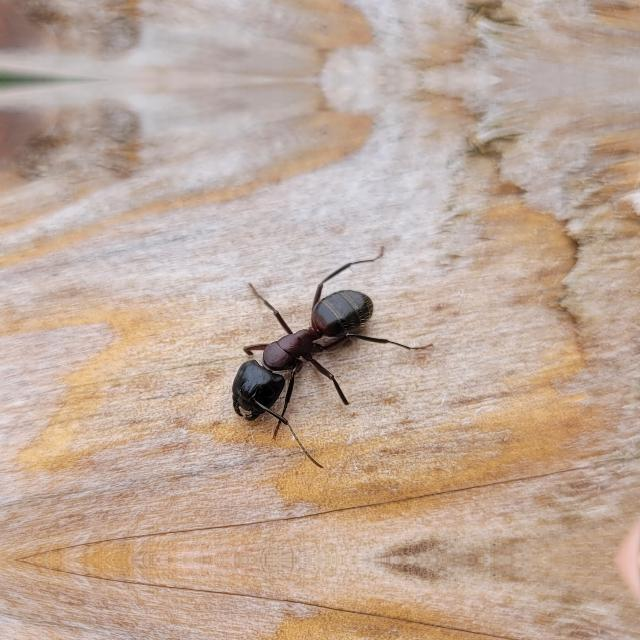Camponotus: (196, 261, 400, 437)
